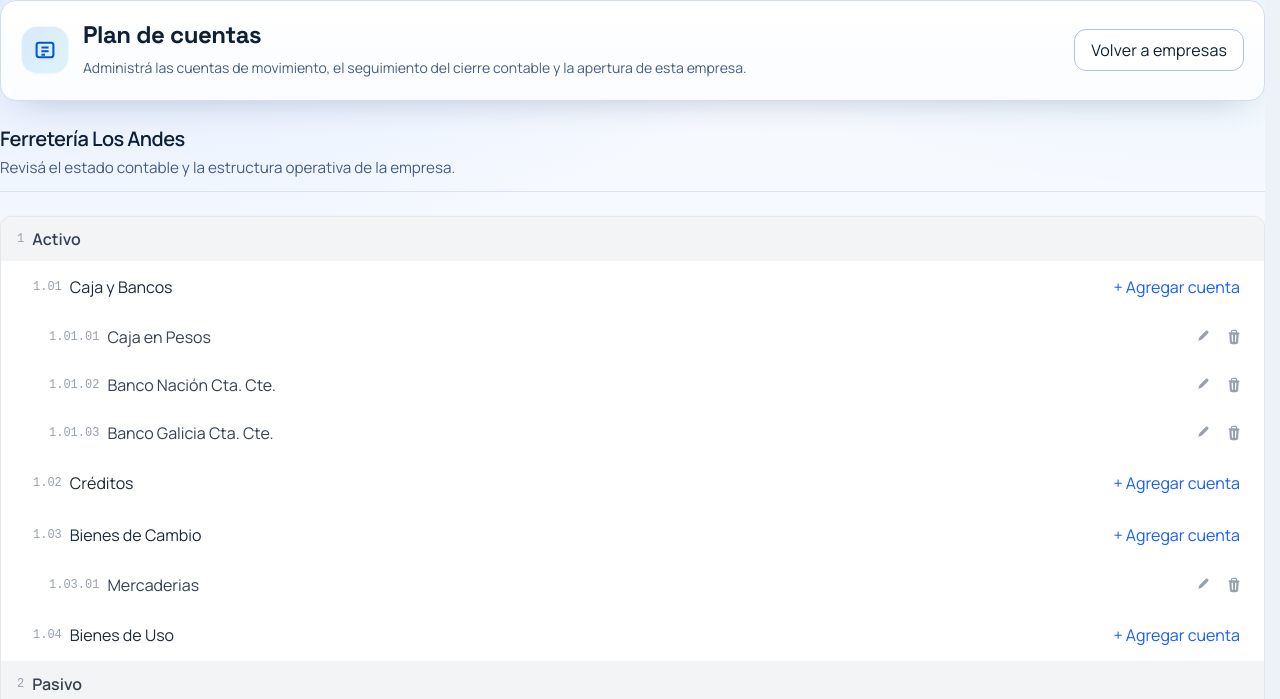
Test: CompanyDetailPage › edits an existing movement account
Check: the text "Caja en Pesos" is shown, box [107,324,211,348]
Click the button named "editar caja en pesos": (1202, 336) [1188,322,1216,350]
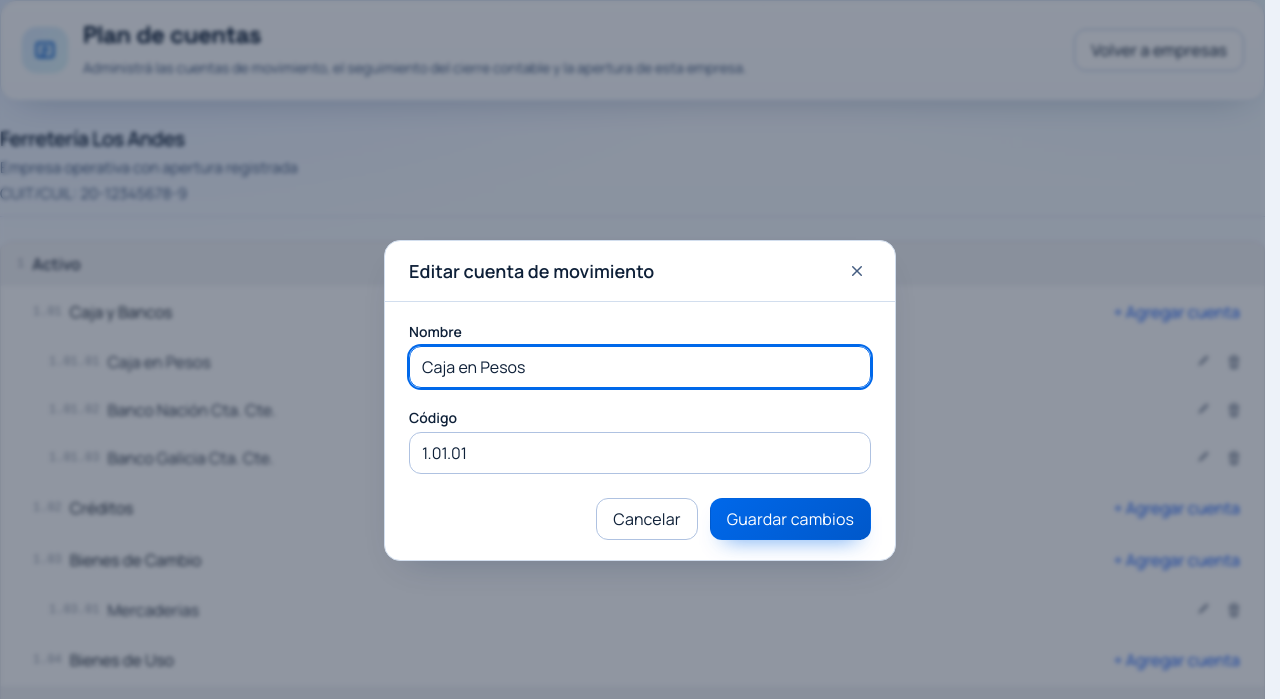
Replace the text in the field labelled "Nombre" with "Caja principal actualizada": (640, 366) [409,346,871,388]
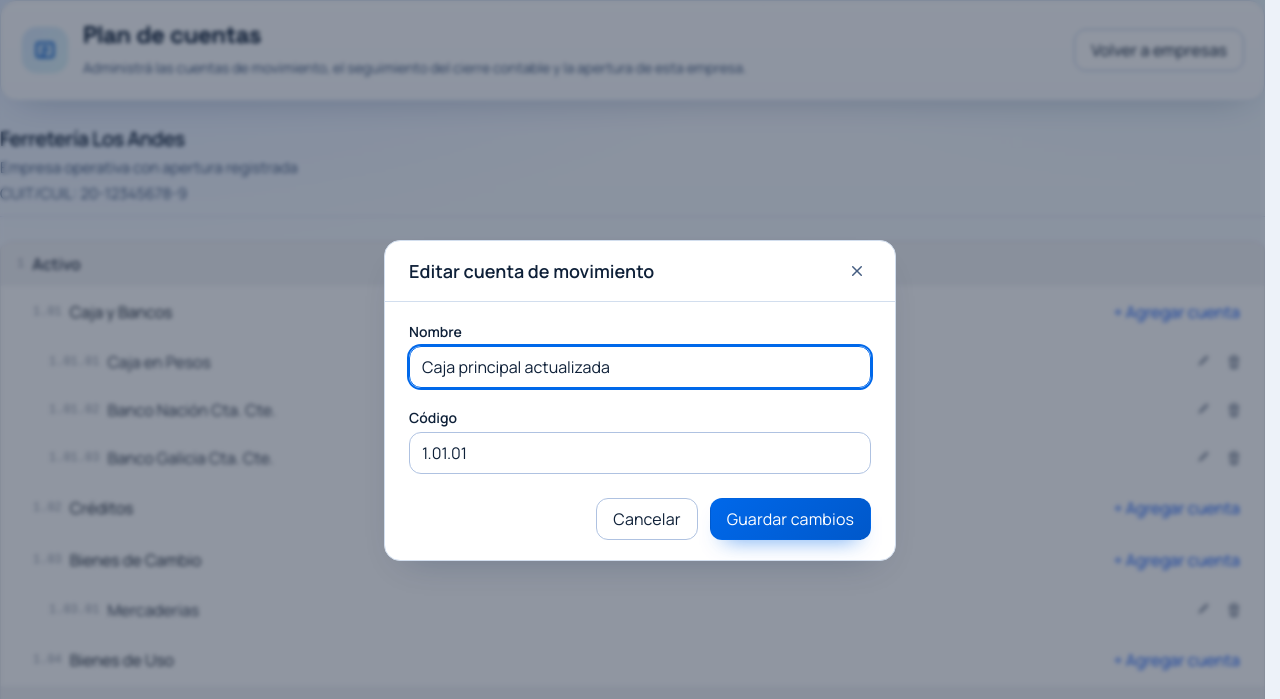
Click the button "Guardar cambios": (790, 518) [710,498,871,540]
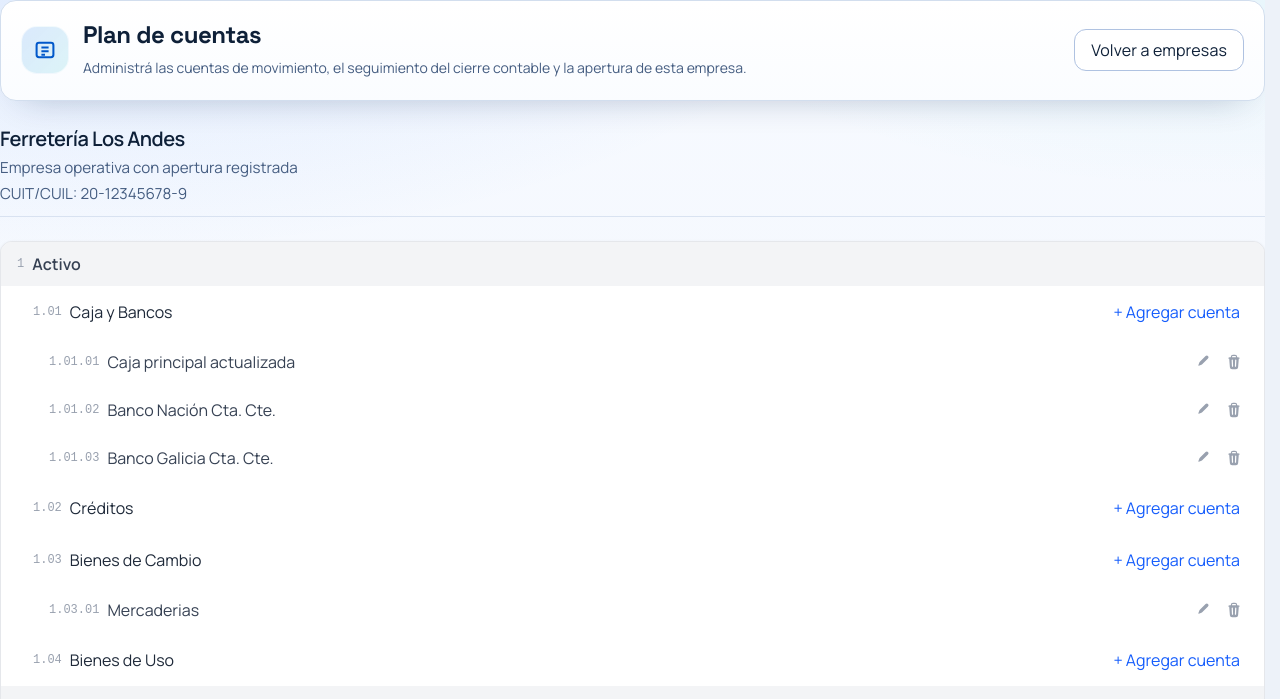
Check: the text "Caja principal actualizada" is shown, box [107,350,295,374]
